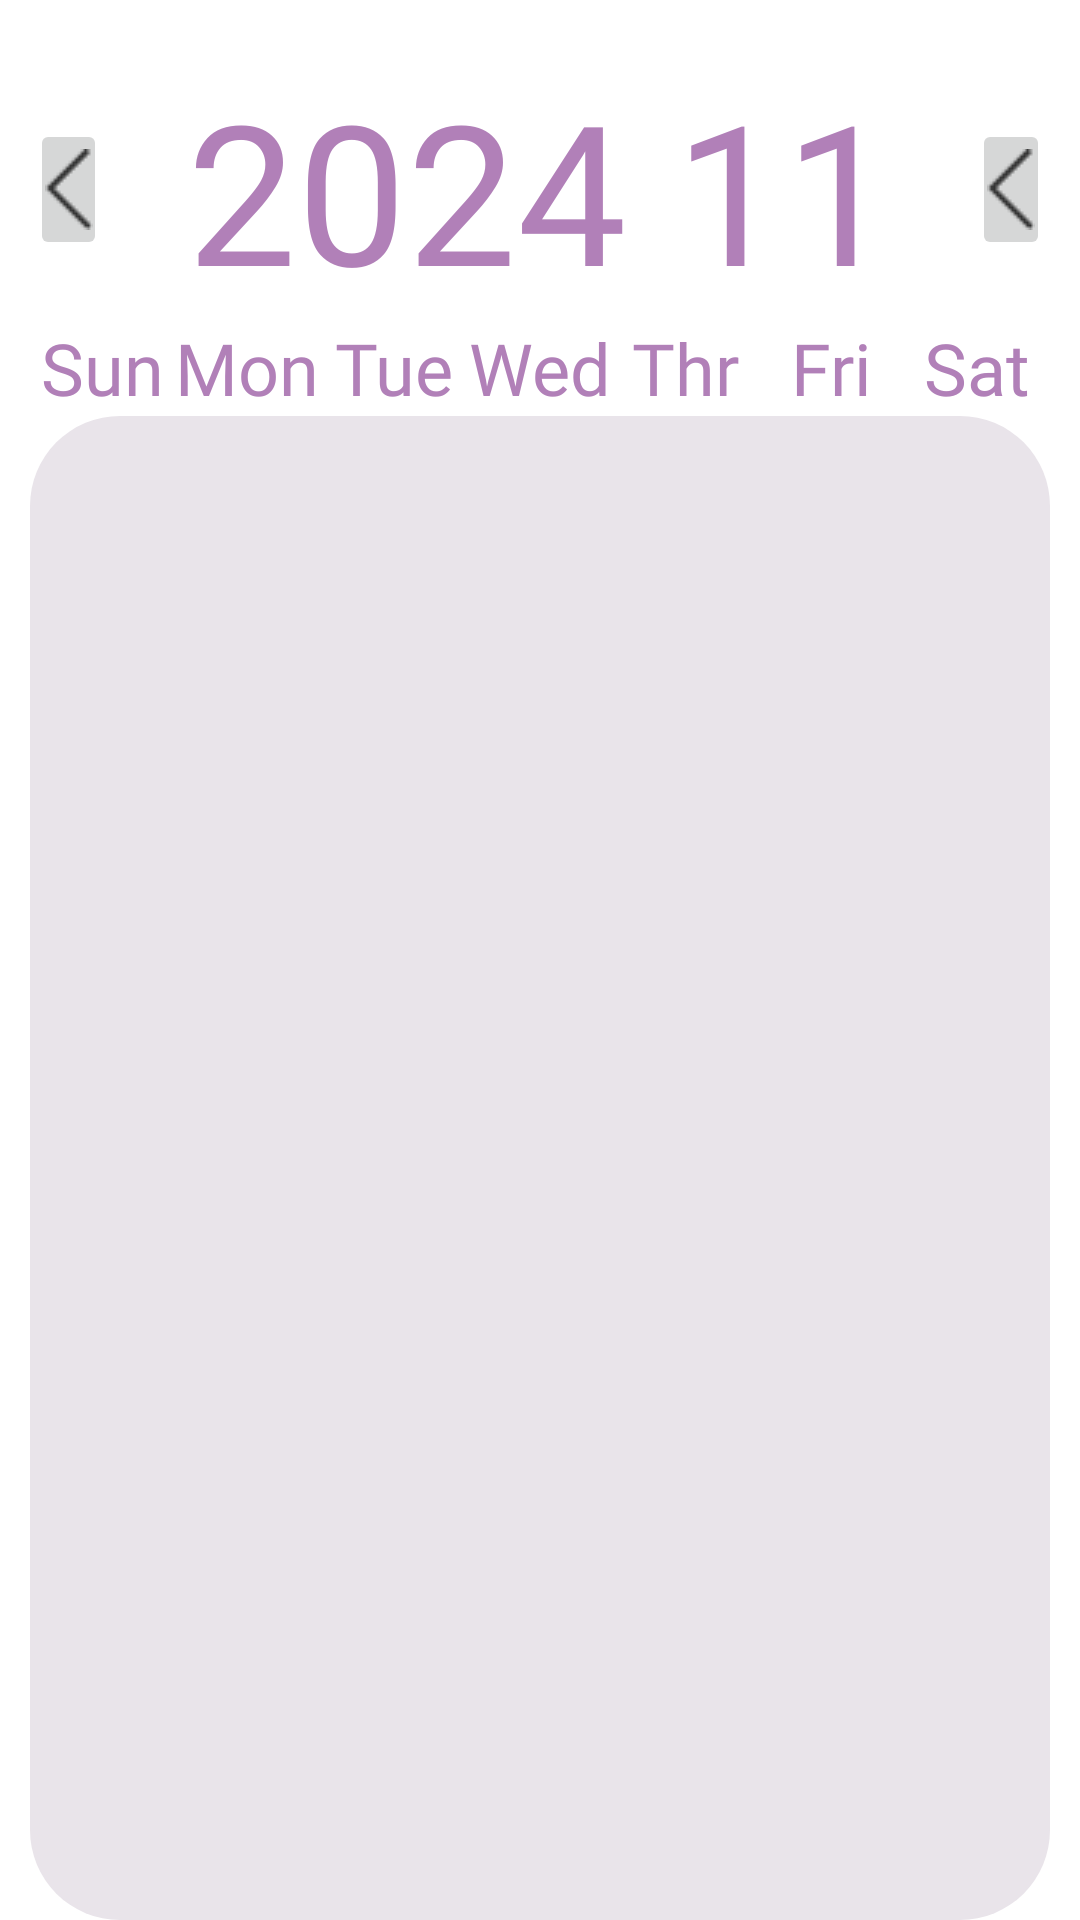

Named icons in this screenshot (1080*1920) and their bounding boxes, (x1, y1, x2, y2):
back press: (42, 137, 95, 242), (984, 137, 1038, 242)
